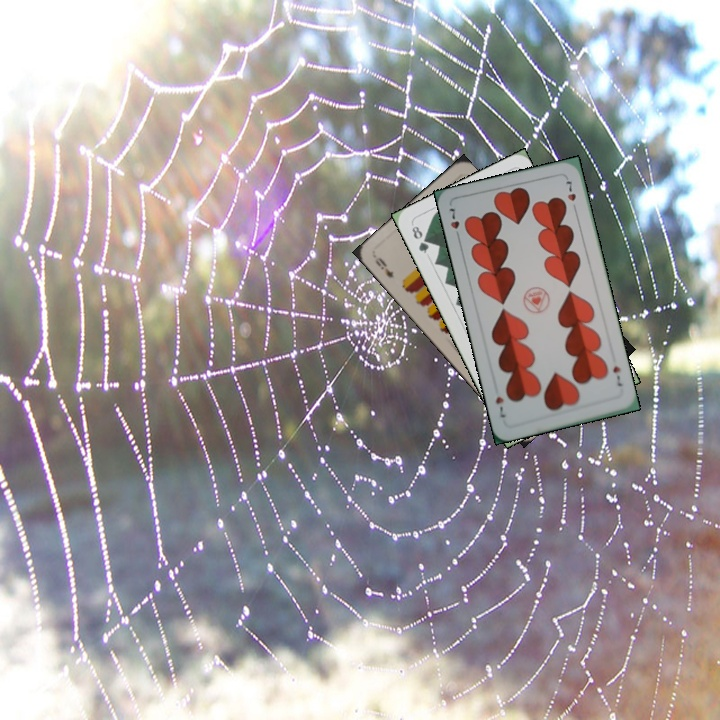E9: (371, 253, 396, 280)
G8: (408, 220, 431, 256)
H7: (446, 204, 463, 243), (609, 362, 625, 389)
